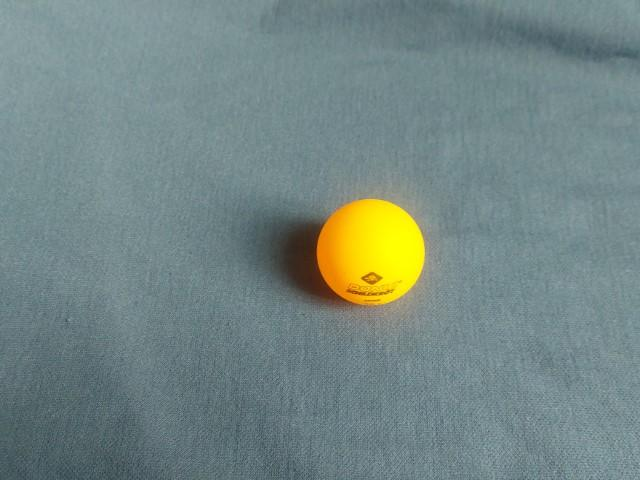oball: (308, 193, 432, 314)
